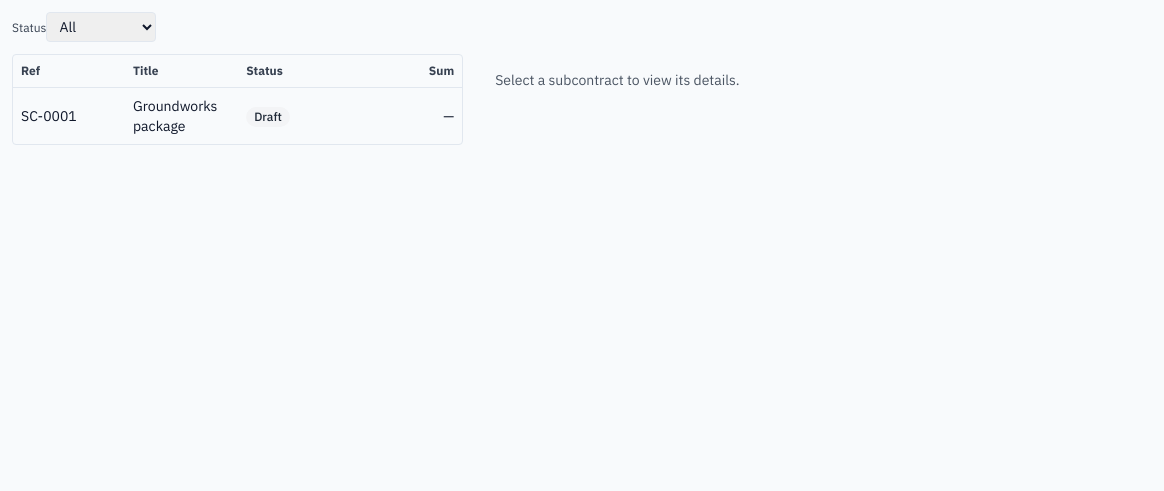
sensitive contract-sum gating › non-sensitive user sees em-dash in BOTH original AND current sum on detail panel
The image size is (1164, 491).
Click the row with test id "subcontracts-row-s-1" at (49, 116), box 13,88 -> 462,144
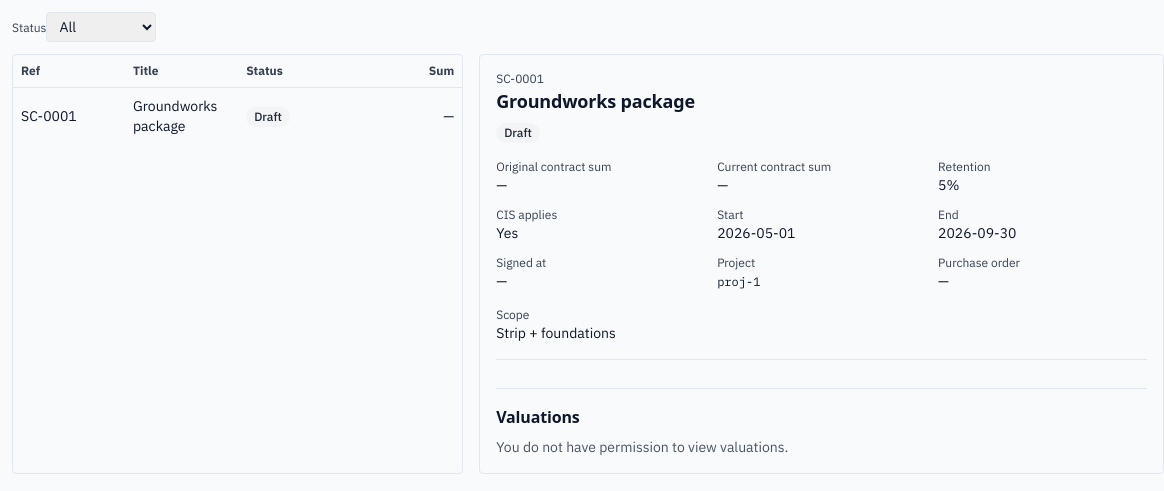
Expected: the element with test id "subcontract-detail-original-sum" reads "—", 496,176 -> 507,194
Expected: the element with test id "subcontract-detail-current-sum" reads "—", 717,176 -> 728,194
